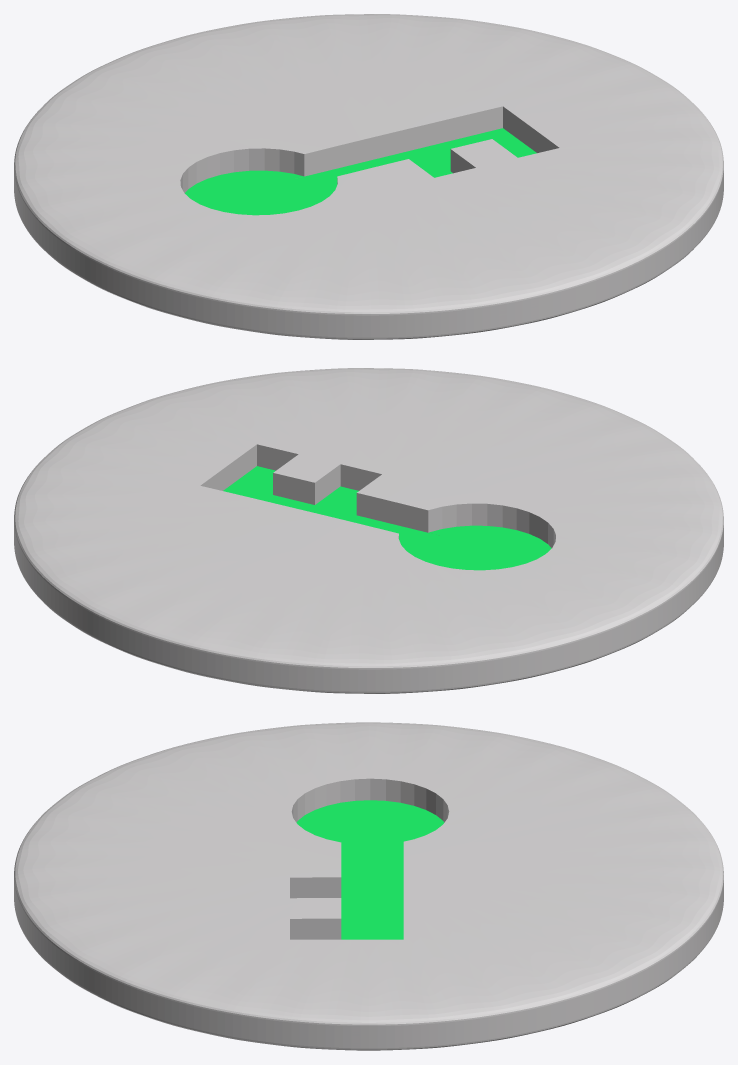
The model's file is KeyPog.fbx.
3 renders of one model, top to bottom at view 1: azimuth 30°, elevation 25°; view 2: azimuth 150°, elevation 25°; view 3: azimuth 270°, elevation 25°, orthographic.
Visible parts, largest first — view 1: keypog; view 2: keypog; view 3: keypog.
Boxes of the visible parts, x1,y1,x2,y2 form: keypog: (14,14,723,339); keypog: (14,368,723,693); keypog: (14,722,723,1050).
Size of the model in its own units: 93.2 by 6.33 by 92.75.
